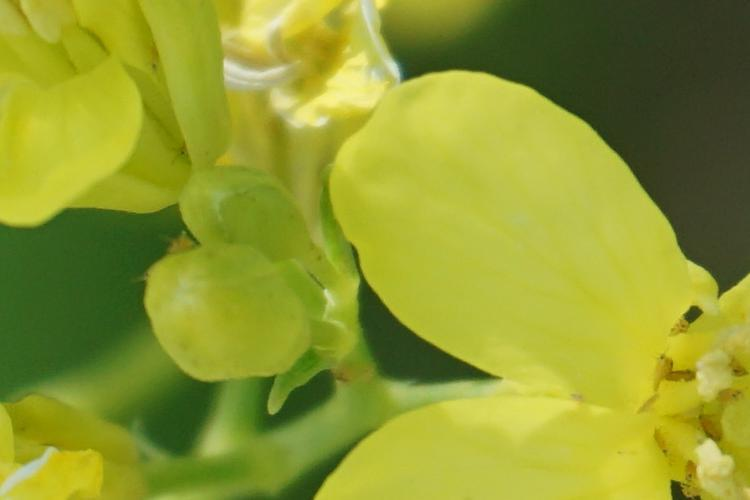bud: (140, 240, 316, 386), (185, 165, 316, 271)
yellow: (328, 70, 748, 500), (2, 393, 220, 500)
